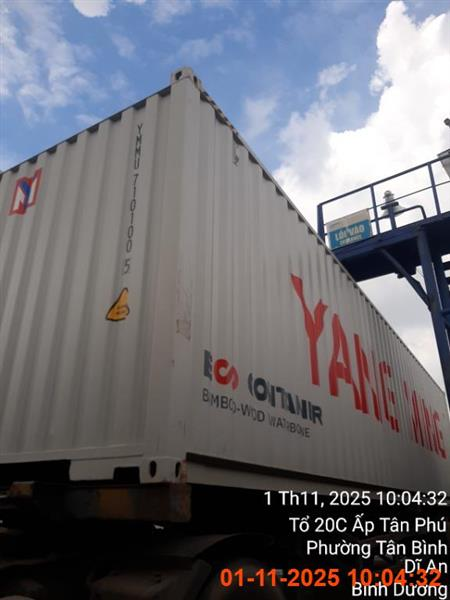broken: (0, 72, 449, 526)
